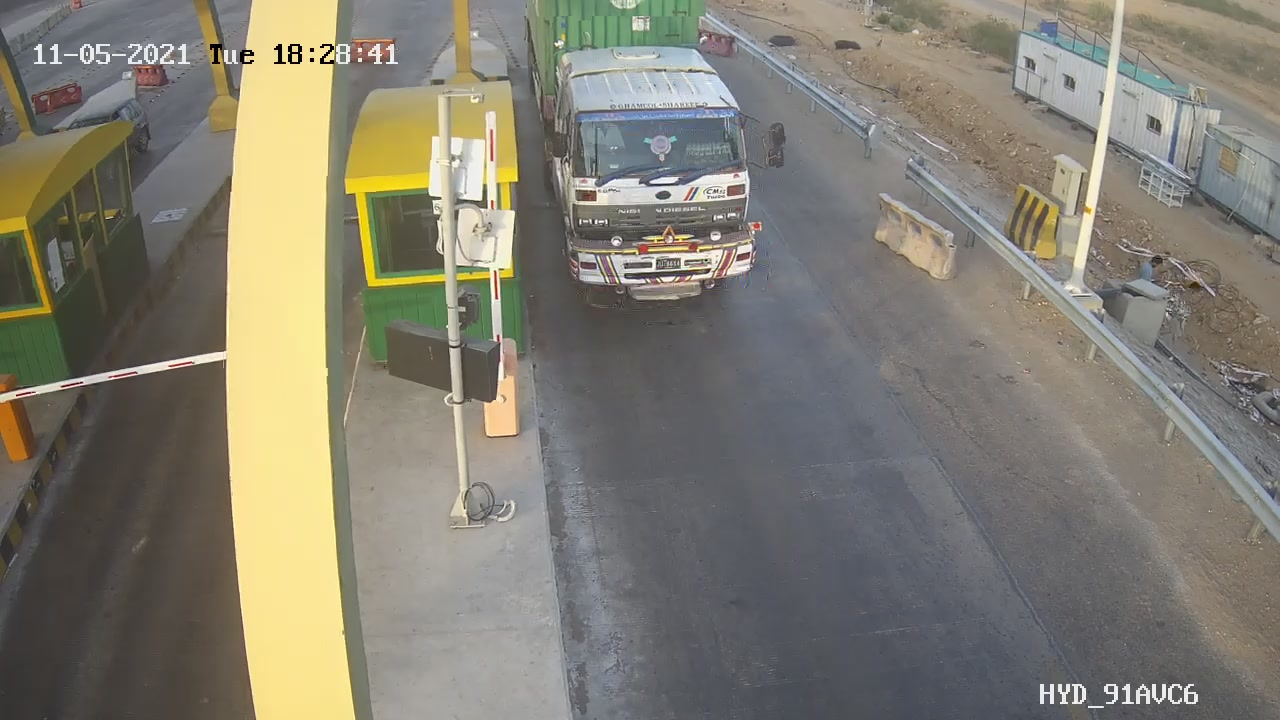F6: (526, 1, 791, 311)
